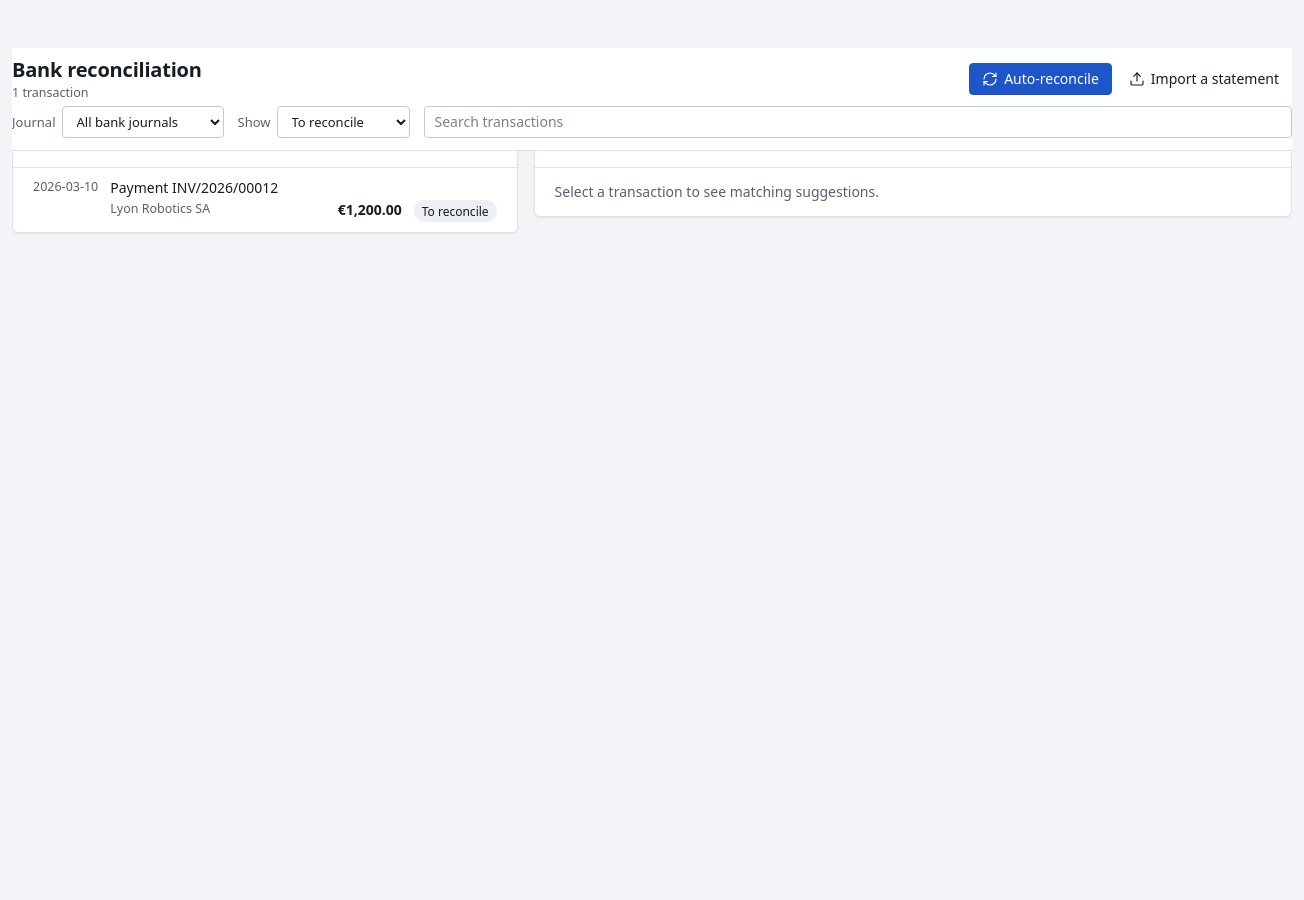
bank reconciliation › lists transactions and accepts a suggestion
Click the button "Payment INV/2026/00012".
click(265, 200)  # box [13,168,517,232]
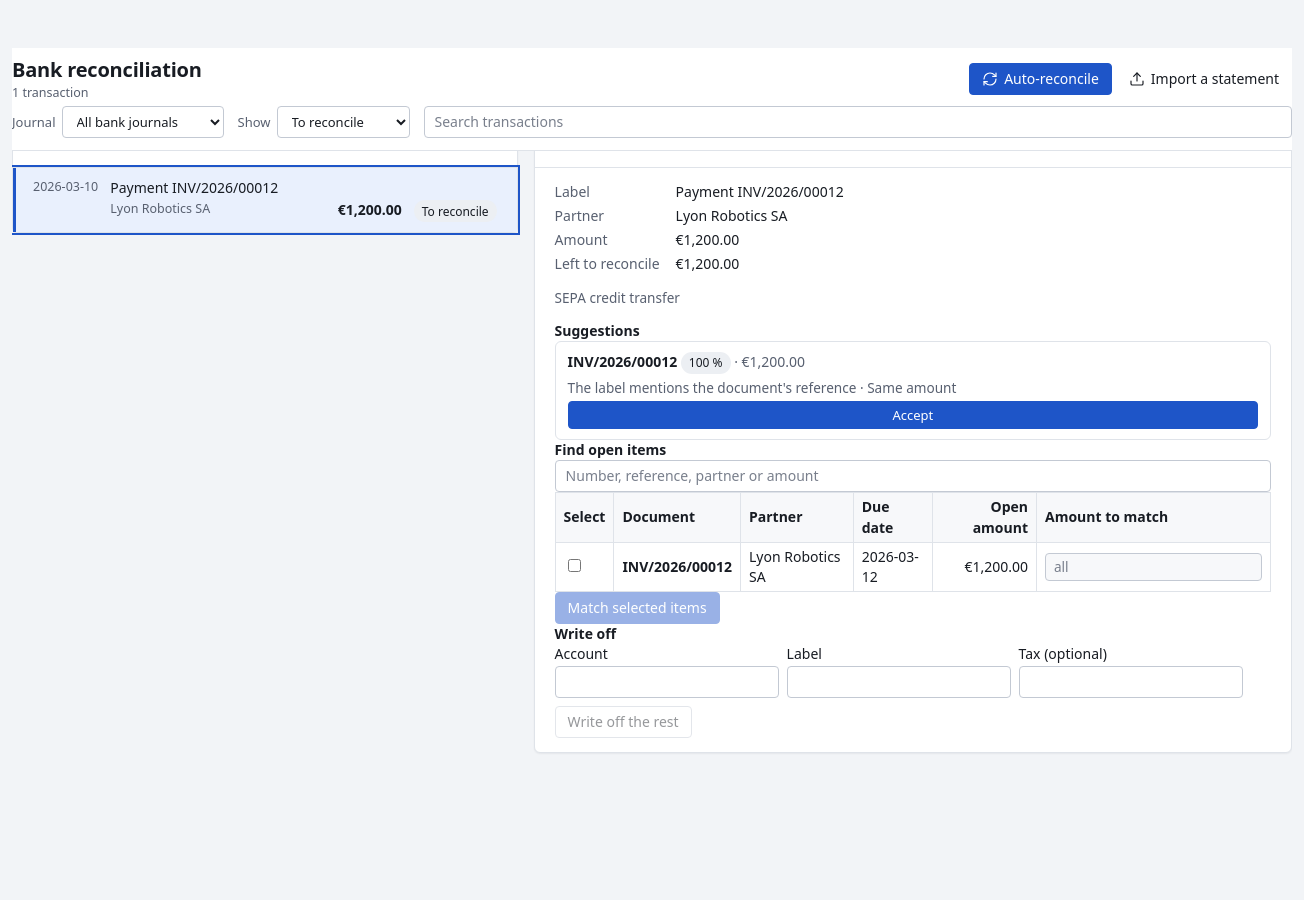
Check: the text "100 %" is shown, box [681,352,730,374]
Check: the text "The label mentions the document's reference · Same amount" is shown, box [568,378,956,397]
Click the button "Accept".
click(913, 416)  # box [568,402,1258,430]
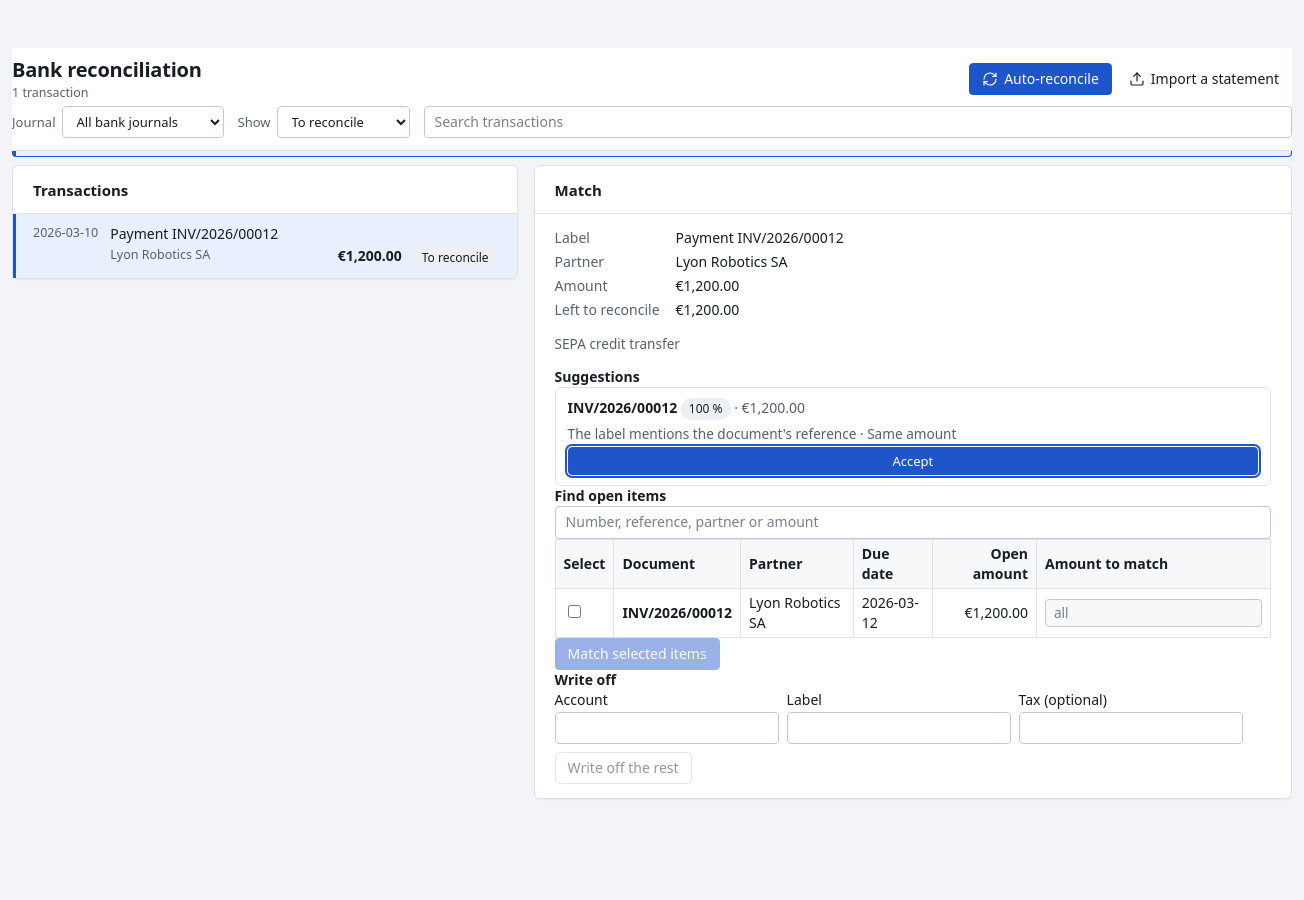
Check: the text "Transaction matched" is shown, box [12,119,1292,157]
